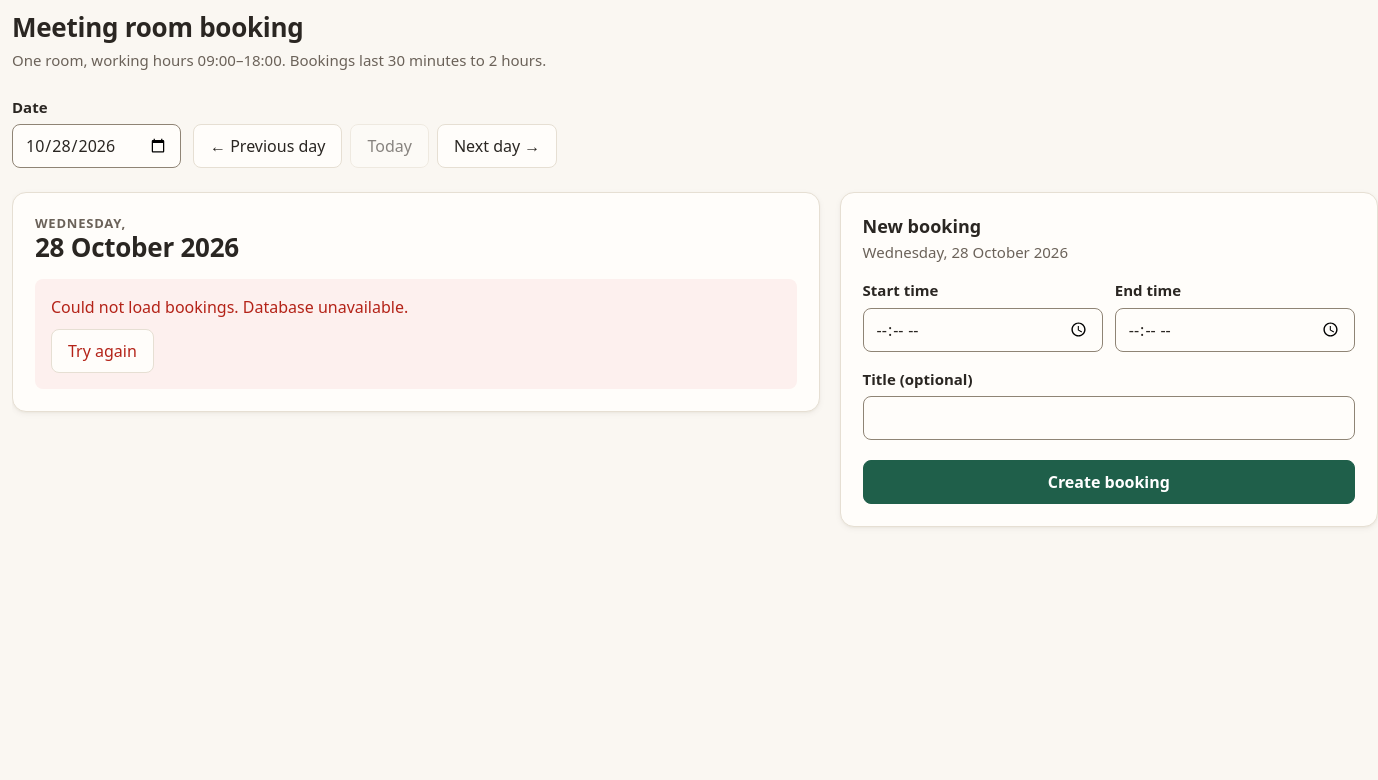
Test: BookingsPage — errors › shows the server message and recovers on retry
Expected: the message shows "Could not load bookings. Database unavailable.", x1=35 y1=279 x2=797 y2=389
Step 1. Click the button "Try again" → (102, 351), box x1=51 y1=329 x2=154 y2=373
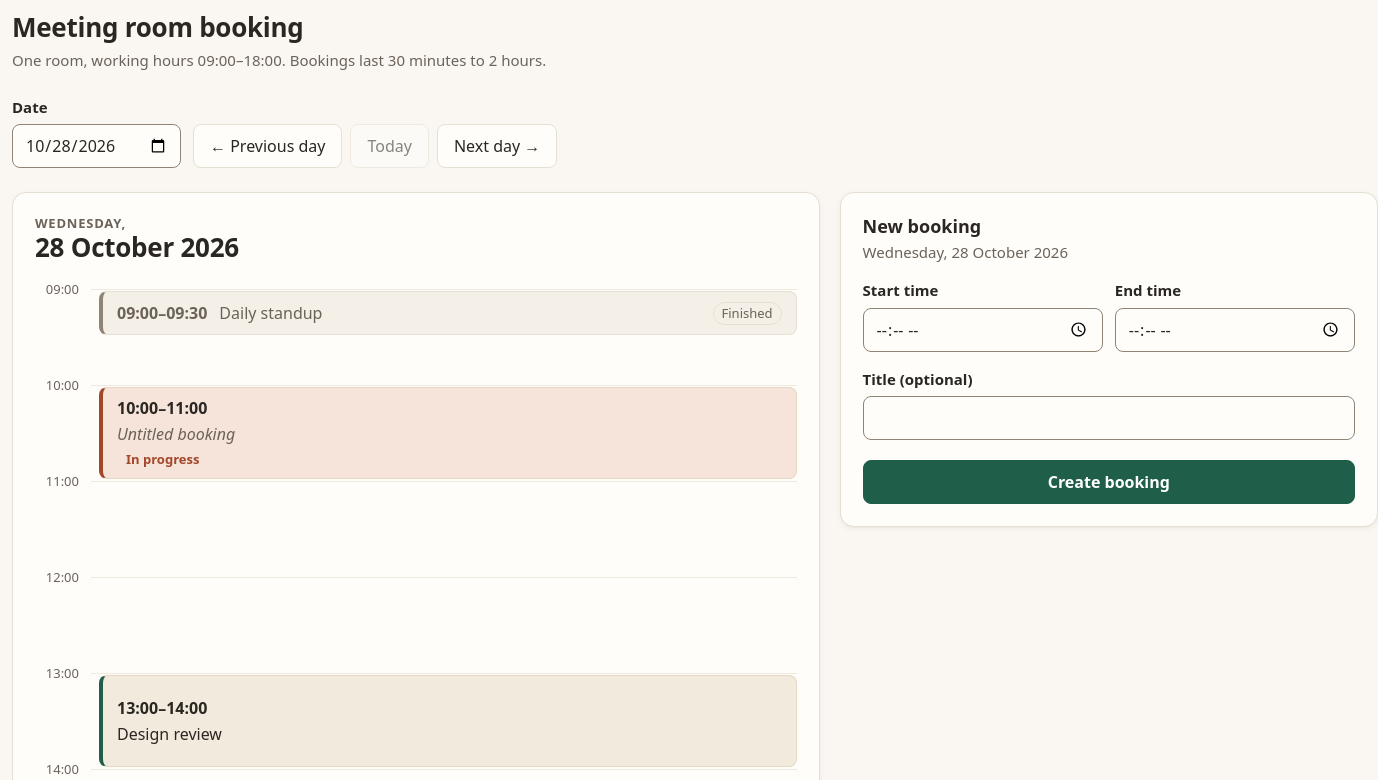
Now the message "Could not load bookings. Database unavailable. Try again" is gone
